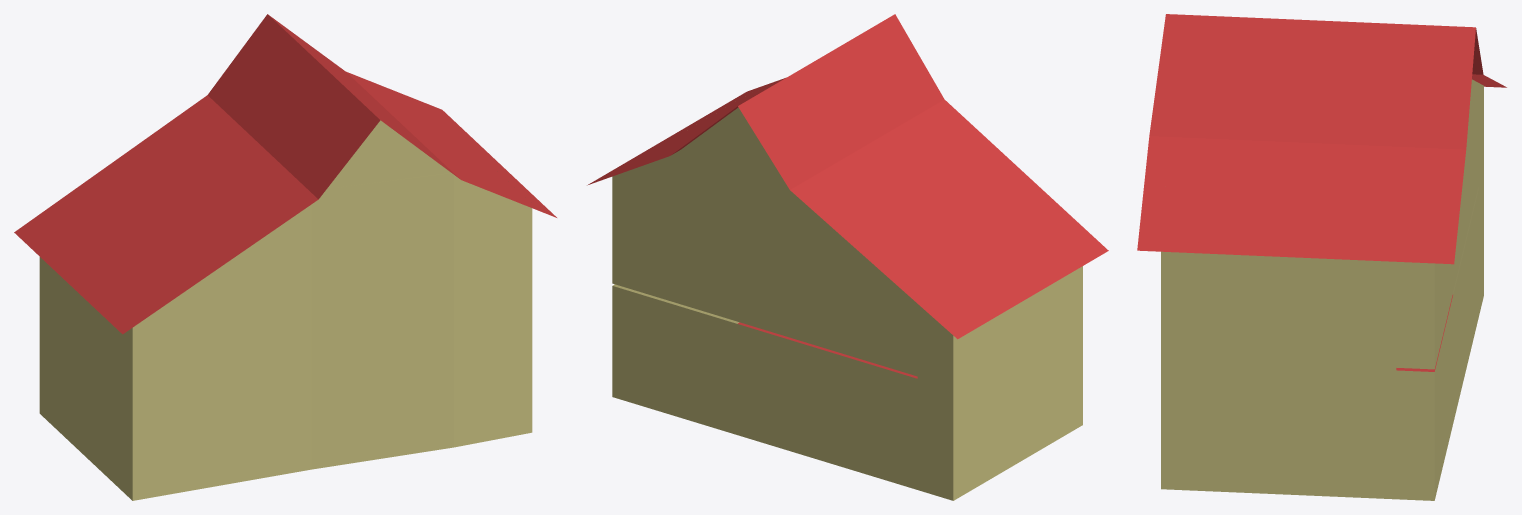
3 renders of one model, left to right at view 1: azimuth 30°, elevation 25°; view 2: azimuth 150°, elevation 25°; view 3: azimuth 270°, elevation 25°, orthographic. The views are drawn at different scales.
Bounding box in the file's own units: 19.19 × 12.73 × 14.89.
